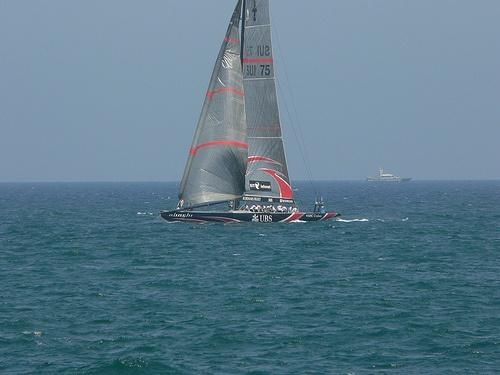boat: (161, 1, 342, 224), (368, 163, 413, 189)
